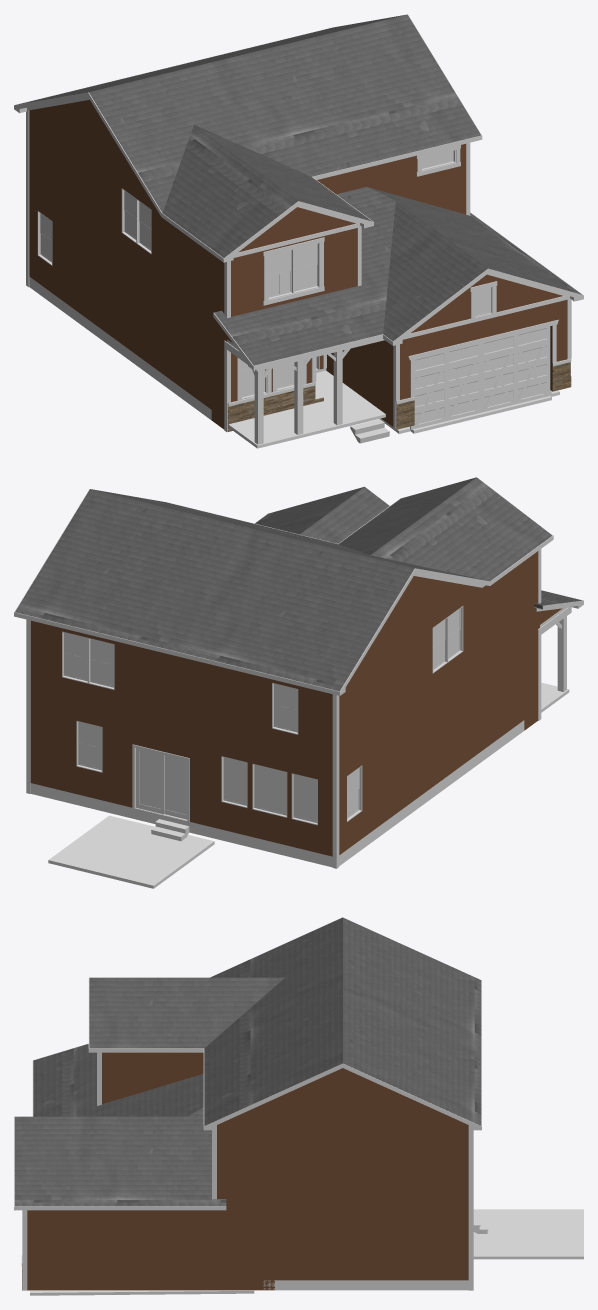
Rendered from 235-2214-dm-farmhouse.glb.
3 views of the same model, one above another, from view 1: azimuth 30°, elevation 25°; view 2: azimuth 150°, elevation 25°; view 3: azimuth 270°, elevation 25° (orthographic). The views are drawn at different scales.
Visible parts, largest first — view 1: Basic Roof Wood Rafter 4" - Asphalt Shingle - Insulated_28b2, Basic Roof Wood Rafter 4" - Asphalt Shingle - Insulated_549c, Basic Wall BSB Exterior - Stud_5.5" - Sheathing_0.5" - _2ea2, Basic Wall BSB Exterior - Stud_5.5" - Sheathing_0.5" - _fd29, Basic Roof Wood Rafter 4" - Asphalt Shingle - Insulated_a694, Craftsman - BSB Exterior - Overhead Garage Door - Clopa_2091, Basic Wall BSB Exterior - Stud_5.5" - Sheathing_0.5" - _5f08, Floor BSB Concrete Slab - 4" - Slope Option [4192935], Basic Wall BSB Exterior - Stud_3.5" - Sheathing_0.5" - _1ac4, Farmhouse - BSB Exterior - Overhead Garage Door - Clopa_04d1, Basic Wall BSB Exterior - Stud_1.5" - Sheathing_0.5" - _4ca7, Fascia Fascia-Flat 1x6 w/12" Soffit Bd [4391944] (+28 smaller); view 2: Basic Roof Wood Rafter 4" - Asphalt Shingle - Insulated_28b2, Basic Wall BSB Exterior - Stud_5.5" - Sheathing_0.5" - _0a3f, Basic Wall BSB Exterior - Stud_5.5" - Sheathing_0.5" - _6c98, Basic Wall BSB Exterior - Stud_5.5" - Sheathing_0.5" - _2ea2, Basic Wall BSB Exterior - Stud_5.5" - Sheathing_0.5" - _fd29, Basic Roof Wood Rafter 4" - Asphalt Shingle - Insulated_a694, Floor BSB Concrete Slab - 4" - Slope Option [4119935], Basic Roof Wood Rafter 4" - Asphalt Shingle - Insulated_549c, BSB Exterior - SGD XO - 1-Lite 6068 [4116363], Basic Wall BSB Exterior - Stud_1.5" - Sheathing_0.5" - _4ca7, Fascia Fascia-Flat 1x6 w/12" Soffit Bd [4391944], Basic Wall BSB Exterior - Lap Siding_6" [4672811] (+16 smaller); view 3: Basic Roof Wood Rafter 4" - Asphalt Shingle - Insulated_28b2, Basic Roof Wood Rafter 4" - Asphalt Shingle - Insulated_549c, Basic Wall BSB Exterior - Stud_5.5" - Sheathing_0.5" - _1b7e, Basic Wall BSB Exterior - Stud_5.5" - Sheathing_0.5" - _2c64, Basic Wall BSB Exterior - Stud_3.5" - Sheathing_0.5" - _872d, Basic Roof Wood Rafter 4" - Asphalt Shingle - Insulated_a694, Basic Wall BSB Exterior - Stud_1.5" - Sheathing_0.5" - _17f6, Basic Wall BSB Exterior - Stud_3.5" - Sheathing_0.5" - _fdf8, Floor BSB Concrete Slab - 4" - Slope Option [4119935], Basic Wall BSB Exterior - Stud_5.5" - Sheathing_0.5" - _0d07, Basic Wall BSB Exterior - Stud_5.5" - Sheathing_0.5" - _b973, Fascia Fascia-Flat 1x6 w/12" Soffit Bd [4391944] (+6 smaller).
Part boxes in pixels (box(x1,y1,x2,y2)): Basic Roof Wood Rafter 4" - Asphalt Shingle - Insulated_28b2: box(16, 14, 481, 212); Basic Roof Wood Rafter 4" - Asphalt Shingle - Insulated_549c: box(214, 187, 581, 365); Basic Wall BSB Exterior - Stud_5.5" - Sheathing_0.5" - _2ea2: box(30, 195, 211, 409); Basic Wall BSB Exterior - Stud_5.5" - Sheathing_0.5" - _fd29: box(29, 111, 211, 327); Basic Roof Wood Rafter 4" - Asphalt Shingle - Insulated_a694: box(162, 124, 372, 257); Craftsman - BSB Exterior - Overhead Garage Door - Clopa_2091: box(415, 327, 547, 424); Basic Wall BSB Exterior - Stud_5.5" - Sheathing_0.5" - _5f08: box(232, 228, 357, 316); Floor BSB Concrete Slab - 4" - Slope Option [4192935]: box(228, 370, 385, 448); Basic Wall BSB Exterior - Stud_3.5" - Sheathing_0.5" - _1ac4: box(400, 300, 567, 399); Farmhouse - BSB Exterior - Overhead Garage Door - Clopa_04d1: box(410, 326, 551, 429); Basic Wall BSB Exterior - Stud_1.5" - Sheathing_0.5" - _4ca7: box(30, 100, 149, 198); Fascia Fascia-Flat 1x6 w/12" Soffit Bd [4391944]: box(15, 14, 481, 261); Basic Roof Wood Rafter 4" - Asphalt Shingle - Insulated_28b2: box(15, 489, 487, 691); Basic Wall BSB Exterior - Stud_5.5" - Sheathing_0.5" - _0a3f: box(30, 620, 332, 772); Basic Wall BSB Exterior - Stud_5.5" - Sheathing_0.5" - _6c98: box(30, 699, 332, 856); Basic Wall BSB Exterior - Stud_5.5" - Sheathing_0.5" - _2ea2: box(339, 637, 524, 854); Basic Wall BSB Exterior - Stud_5.5" - Sheathing_0.5" - _fd29: box(339, 561, 524, 771); Basic Roof Wood Rafter 4" - Asphalt Shingle - Insulated_a694: box(339, 477, 552, 581); Floor BSB Concrete Slab - 4" - Slope Option [4119935]: box(48, 815, 214, 888); Basic Roof Wood Rafter 4" - Asphalt Shingle - Insulated_549c: box(255, 486, 582, 608); BSB Exterior - SGD XO - 1-Lite 6068 [4116363]: box(132, 744, 189, 821); Basic Wall BSB Exterior - Stud_1.5" - Sheathing_0.5" - _4ca7: box(352, 576, 474, 676); Fascia Fascia-Flat 1x6 w/12" Soffit Bd [4391944]: box(14, 477, 553, 695); Basic Wall BSB Exterior - Lap Siding_6" [4672811]: box(30, 783, 332, 867); Basic Roof Wood Rafter 4" - Asphalt Shingle - Insulated_28b2: box(204, 917, 481, 1125); Basic Roof Wood Rafter 4" - Asphalt Shingle - Insulated_549c: box(14, 1044, 226, 1206); Basic Wall BSB Exterior - Stud_5.5" - Sheathing_0.5" - _1b7e: box(229, 1124, 468, 1203); Basic Wall BSB Exterior - Stud_5.5" - Sheathing_0.5" - _2c64: box(275, 1203, 467, 1280); Basic Wall BSB Exterior - Stud_3.5" - Sheathing_0.5" - _872d: box(108, 1203, 256, 1290); Basic Roof Wood Rafter 4" - Asphalt Shingle - Insulated_a694: box(89, 977, 284, 1048); Basic Wall BSB Exterior - Stud_1.5" - Sheathing_0.5" - _17f6: box(218, 1068, 466, 1124); Basic Wall BSB Exterior - Stud_3.5" - Sheathing_0.5" - _fdf8: box(30, 1210, 107, 1290); Floor BSB Concrete Slab - 4" - Slope Option [4119935]: box(473, 1209, 583, 1259); Basic Wall BSB Exterior - Stud_5.5" - Sheathing_0.5" - _0d07: box(103, 1052, 203, 1103); Basic Wall BSB Exterior - Stud_5.5" - Sheathing_0.5" - _b973: box(222, 1203, 274, 1290); Fascia Fascia-Flat 1x6 w/12" Soffit Bd [4391944]: box(88, 917, 481, 1126).
Size of the model in its own units: 11.33 by 9.46 by 18.61.
3 materials, 2 textured.
